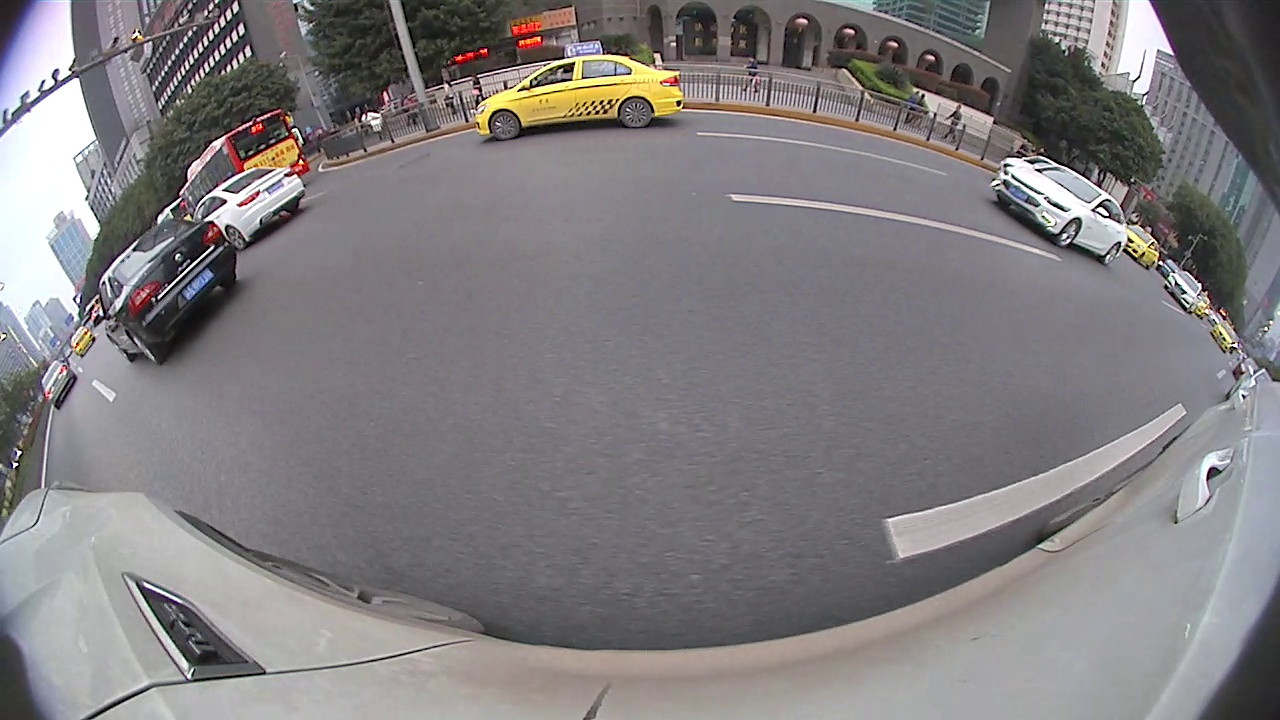bus: (1090, 187, 1279, 395)
car: (168, 148, 472, 327), (1090, 206, 1276, 374), (736, 124, 923, 238), (926, 190, 1084, 275), (596, 151, 649, 192), (528, 158, 586, 195), (681, 158, 720, 187)
front: (447, 199, 469, 240), (733, 176, 750, 208)
rear: (310, 232, 361, 306), (1242, 351, 1273, 399), (1196, 331, 1230, 370), (996, 232, 1029, 269), (785, 183, 810, 231)
rider: (654, 150, 675, 188)
